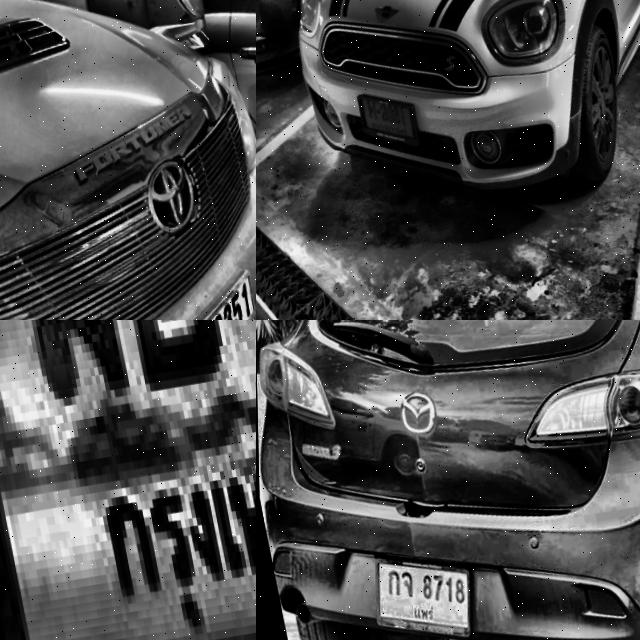license-plate: (0, 320, 256, 640), (357, 539, 483, 640), (151, 265, 256, 320), (350, 81, 424, 158)
